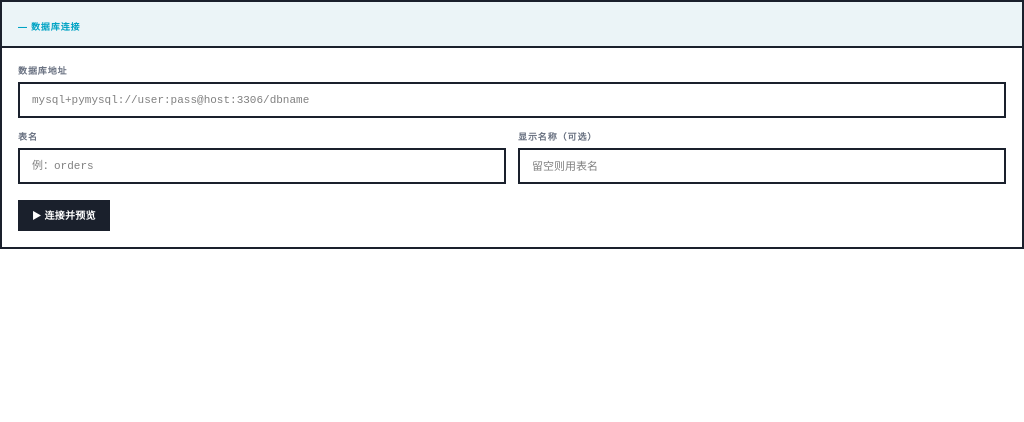
DbPanel › 连接成功但样例为空时展示诊断提示
Type "mysql://demo" into the field with placeholder "mysql+pymysql://user:pass@host:3306/dbname".
click(512, 100); type("mysql://demo")  # box [18,82,1006,118]
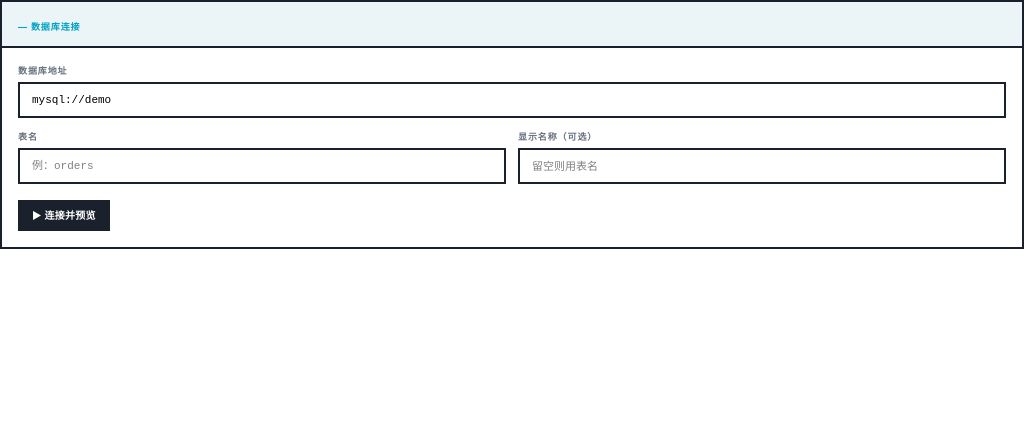
Type "orders" into the field with placeholder "例：orders".
click(262, 166); type("orders")  # box [18,148,506,184]
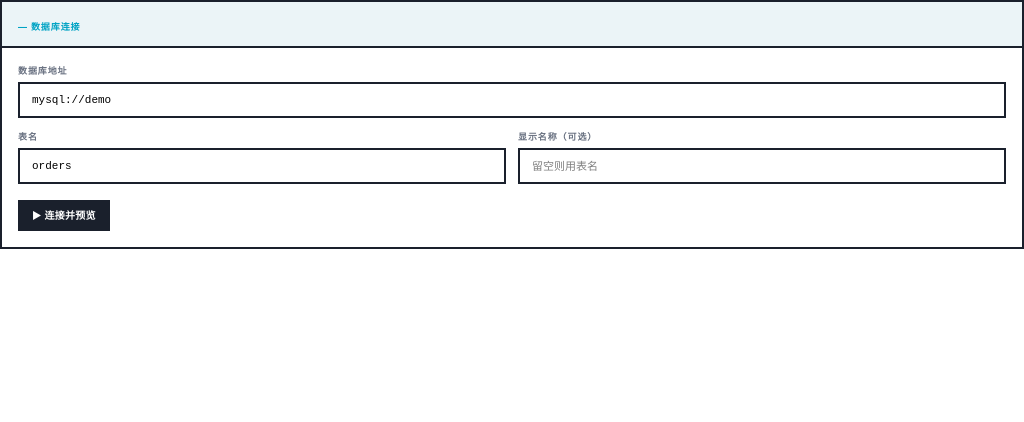
Click the button "▶ 连接并预览".
click(64, 216)  # box [18,200,110,231]
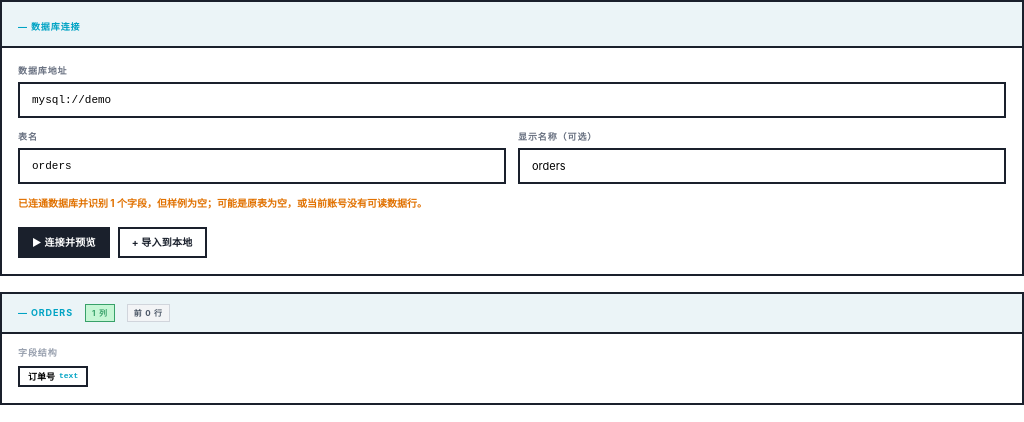
Expected: the text "已连通数据库并识别 1 个字段，但样例为空；可能是原表为空，或当前账号没有可读数据行。" is shown, [18,197,427,209]
